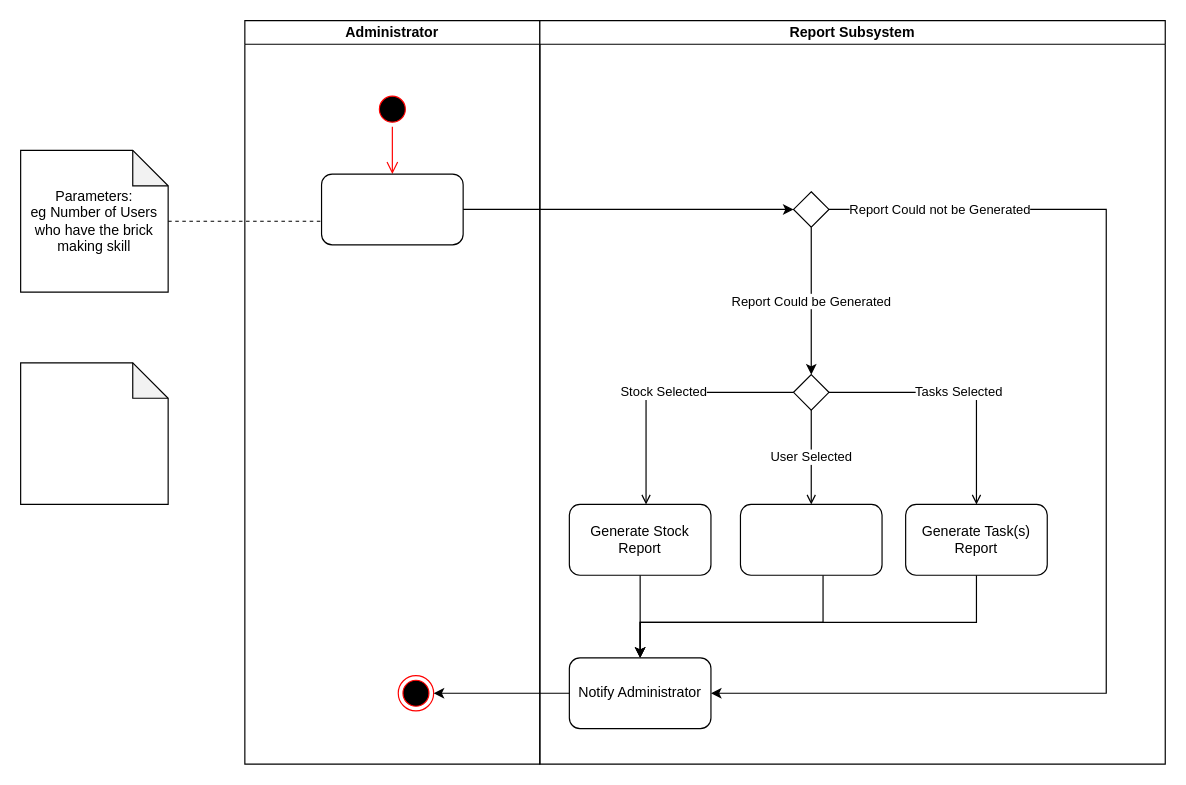
Some shapes in this 1186 by 785 pixel diagram are drawn without their labels. The shapes that lost their labels are listed below. From the top down, each one's centre as x and y in pixels, then its label:
the point at 391,209: Select Report with Specified Parameters to Generate
the point at 93,433: Users can be Employees, Contractors and Supervisors.
the point at 810,539: Generate User Report
